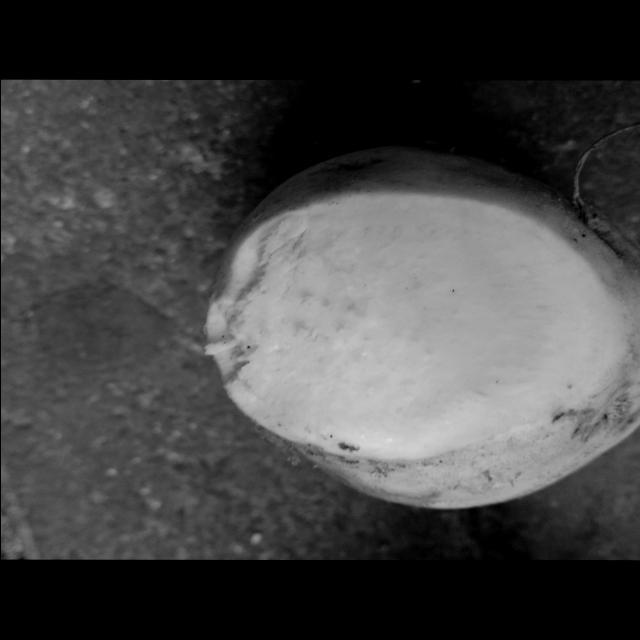Healthy Sweet Potato: (205, 192, 622, 460)
